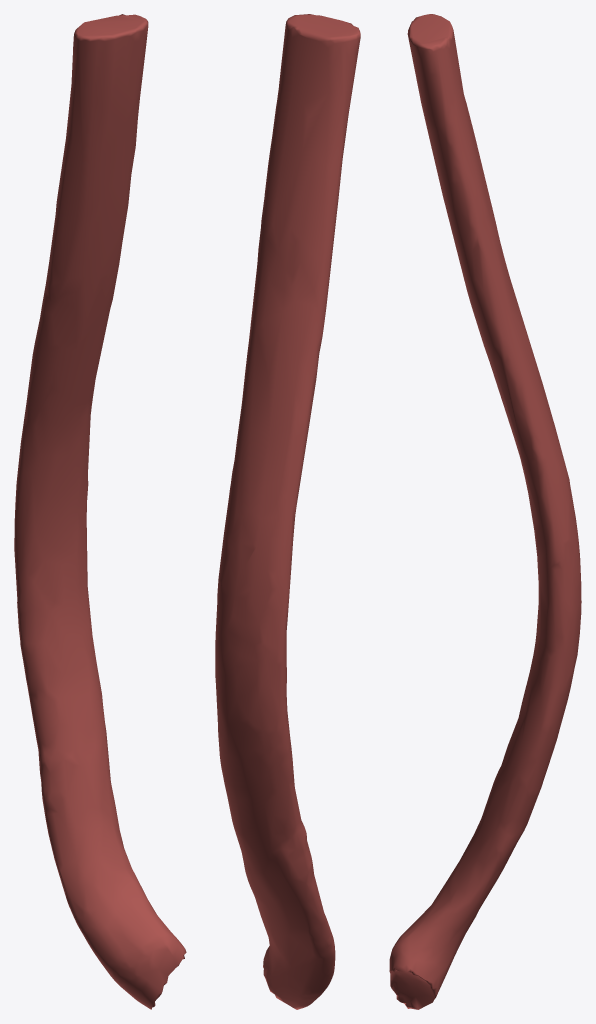
The model's file is FMA7131.glb.
3 views of the same model, side by side, from view 1: azimuth 30°, elevation 25°; view 2: azimuth 150°, elevation 25°; view 3: azimuth 270°, elevation 25° (orthographic). The views are drawn at different scales.
Parts seen in each view (by area): view 1: FMA7131; view 2: FMA7131; view 3: FMA7131.
Boxes of the visible parts, x1,y1,x2,y2 form: FMA7131: (14,14,186,1009); FMA7131: (215,14,360,1009); FMA7131: (389,14,581,1009).
Bounding box in the file's own units: 0.0259 × 0.2494 × 0.045.
